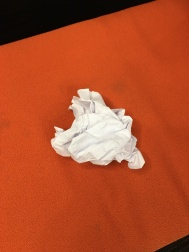paper_white: (38, 75, 151, 181)
